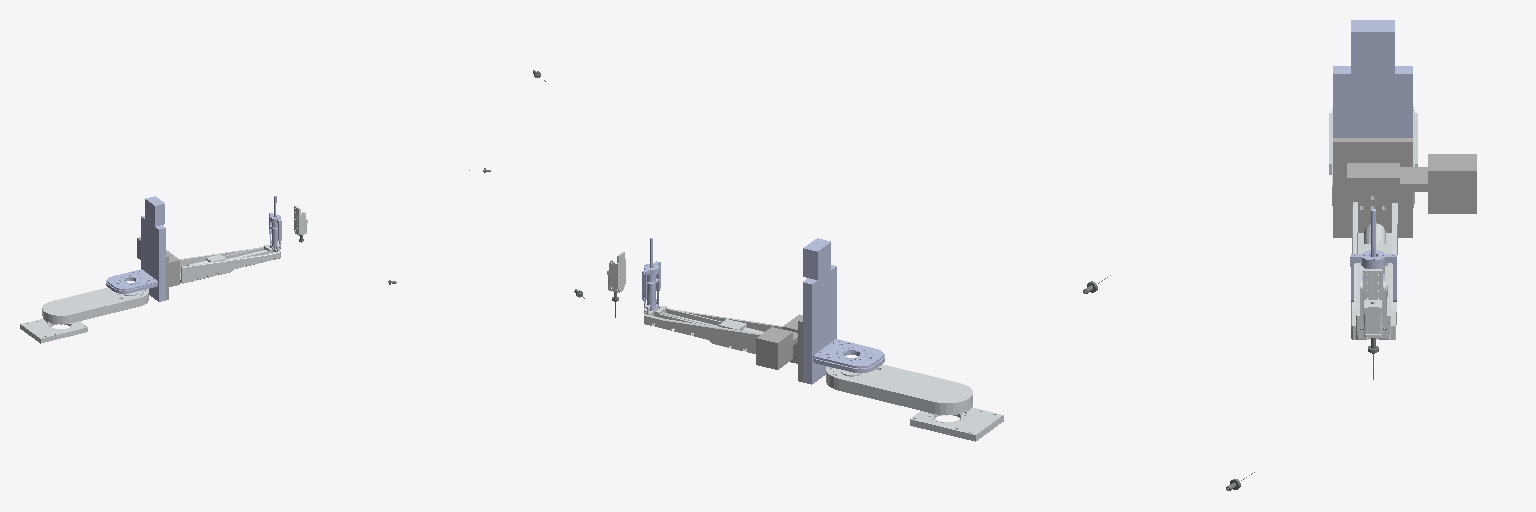
URDF robot description (eye_robotics_2):
<?xml version="1.0" encoding="utf-8"?>
<!-- This URDF was automatically created by SolidWorks to URDF Exporter! Originally created by [author] ([email redacted])
     Commit Version: 1.5.1-0-g916b5db  Build Version: 1.5.7152.31018
     For more information, please see http://wiki.ros.org/sw_urdf_exporter -->
<robot
  name="eye_robotics_2">
  <link
    name="base_link">
    <inertial>
      <origin
        xyz="-0.0238005358984902 7.38684680795521E-06 0.19192082135837"
        rpy="0 0 0" />
      <mass
        value="0.384019501922379" />
      <inertia
        ixx="0.00037648049249323"
        ixy="-1.86655934883142E-07"
        ixz="7.23682486620712E-07"
        iyy="0.000691074966331848"
        iyz="-2.24605516922303E-10"
        izz="0.00105713750177639" />
    </inertial>
    <visual>
      <origin
        xyz="0 0 0"
        rpy="0 0 0" />
      <geometry>
        <mesh
          filename="package://eye_robotics_2/meshes/base_link.STL" />
      </geometry>
      <material
        name="">
        <color
          rgba="0.894117647058823 0.913725490196078 0.929411764705882 1" />
      </material>
    </visual>
    <collision>
      <origin
        xyz="0 0 0"
        rpy="0 0 0" />
      <geometry>
        <mesh
          filename="package://eye_robotics_2/meshes/base_link.STL" />
      </geometry>
    </collision>
  </link>
  <link
    name="link_1">
    <inertial>
      <origin
        xyz="0.100797473862999 9.75750207964365E-05 -0.0119251219533321"
        rpy="0 0 0" />
      <mass
        value="1.46370175335147" />
      <inertia
        ixx="0.00106648086469304"
        ixy="-8.16970648484332E-06"
        ixz="0.00014263499229849"
        iyy="0.008676502815725"
        iyz="8.86252699776458E-08"
        izz="0.00961281310495378" />
    </inertial>
    <visual>
      <origin
        xyz="0 0 0"
        rpy="0 0 0" />
      <geometry>
        <mesh
          filename="package://eye_robotics_2/meshes/link_1.STL" />
      </geometry>
      <material
        name="">
        <color
          rgba="0.894117647058823 0.913725490196078 0.929411764705882 1" />
      </material>
    </visual>
    <collision>
      <origin
        xyz="0 0 0"
        rpy="0 0 0" />
      <geometry>
        <mesh
          filename="package://eye_robotics_2/meshes/link_1.STL" />
      </geometry>
    </collision>
  </link>
  <joint
    name="joint_1"
    type="revolute">
    <origin
      xyz="0 0 0.2428"
      rpy="0 0 0" />
    <parent
      link="base_link" />
    <child
      link="link_1" />
    <axis
      xyz="0 0 1" />
    <limit
      lower="-0.5235987"
      upper="0.5235987"
      effort="0"
      velocity="0" />
  </joint>
  <link
    name="link_2">
    <inertial>
      <origin
        xyz="0.0434941937071998 6.63065378990191E-05 0.041333956225932"
        rpy="0 0 0" />
      <mass
        value="0.701134936853284" />
      <inertia
        ixx="0.00280293008059324"
        ixy="1.90190685009045E-06"
        ixz="-4.49171603235318E-05"
        iyy="0.00267008024448423"
        iyz="1.16083816001134E-07"
        izz="0.000739304049211524" />
    </inertial>
    <visual>
      <origin
        xyz="0 0 0"
        rpy="0 0 0" />
      <geometry>
        <mesh
          filename="package://eye_robotics_2/meshes/link_2.STL" />
      </geometry>
      <material
        name="">
        <color
          rgba="0.792156862745098 0.819607843137255 0.933333333333333 1" />
      </material>
    </visual>
    <collision>
      <origin
        xyz="0 0 0"
        rpy="0 0 0" />
      <geometry>
        <mesh
          filename="package://eye_robotics_2/meshes/link_2.STL" />
      </geometry>
    </collision>
  </link>
  <joint
    name="joint_2"
    type="revolute">
    <origin
      xyz="0.2 0 0.0303"
      rpy="0 0 0" />
    <parent
      link="link_1" />
    <child
      link="link_2" />
    <axis
      xyz="0 0 1" />
    <limit
      lower="-0.5235987"
      upper="0.5235987"
      effort="0"
      velocity="0" />
  </joint>
  <link
    name="link_3">
    <inertial>
      <origin
        xyz="-0.030022019225413 0.0142338341360965 0.0102395532586211"
        rpy="0 0 0" />
      <mass
        value="0.414852305243674" />
      <inertia
        ixx="0.000295687038913697"
        ixy="1.55261476772924E-05"
        ixz="0.000116580303769062"
        iyy="0.00098470595032623"
        iyz="-3.42372209267644E-06"
        izz="0.000782496128442804" />
    </inertial>
    <visual>
      <origin
        xyz="0 0 0"
        rpy="0 0 0" />
      <geometry>
        <mesh
          filename="package://eye_robotics_2/meshes/link_3.STL" />
      </geometry>
      <material
        name="">
        <color
          rgba="0.752941176470588 0.752941176470588 0.752941176470588 1" />
      </material>
    </visual>
    <collision>
      <origin
        xyz="0 0 0"
        rpy="0 0 0" />
      <geometry>
        <mesh
          filename="package://eye_robotics_2/meshes/link_3.STL" />
      </geometry>
    </collision>
  </link>
  <joint
    name="joint_3"
    type="prismatic">
    <origin
      xyz="0.0865 0 0"
      rpy="0 0 -1.5708" />
    <parent
      link="link_2" />
    <child
      link="link_3" />
    <axis
      xyz="0 0 1" />
    <limit
      lower="0"
      upper="0.08"
      effort="0"
      velocity="0" />
  </joint>
  <link
    name="link_4">
    <inertial>
      <origin
        xyz="-0.0030133954132826 7.36834133241437E-06 1.09665768302722E-05"
        rpy="0 0 0" />
      <mass
        value="0.00646337305599087" />
      <inertia
        ixx="8.7126276838155E-08"
        ixy="9.83550461976546E-11"
        ixz="1.46385478633911E-10"
        iyy="2.19382842685933E-07"
        iyz="2.35555780033846E-10"
        izz="2.19575161381821E-07" />
    </inertial>
    <visual>
      <origin
        xyz="0 0 0"
        rpy="0 0 0" />
      <geometry>
        <mesh
          filename="package://eye_robotics_2/meshes/link_4.STL" />
      </geometry>
      <material
        name="">
        <color
          rgba="0.529411764705882 0.549019607843137 0.549019607843137 1" />
      </material>
    </visual>
    <collision>
      <origin
        xyz="0 0 0"
        rpy="0 0 0" />
      <geometry>
        <mesh
          filename="package://eye_robotics_2/meshes/link_4.STL" />
      </geometry>
    </collision>
  </link>
  <joint
    name="joint_4"
    type="revolute">
    <origin
      xyz="0 0.406 0"
      rpy="2.1612 -1.5708 2.5455" />
    <parent
      link="link_3" />
    <child
      link="link_4" />
    <axis
      xyz="0 0 1" />
    <limit
      lower="-0.5235987"
      upper="0.5235987"
      effort="0"
      velocity="0" />
  </joint>
  <link
    name="link_5">
    <inertial>
      <origin
        xyz="-1.09665768327216E-05 -0.00301339541339821 -7.36834149278609E-06"
        rpy="0 0 0" />
      <mass
        value="0.00646337305599087" />
      <inertia
        ixx="2.19575161381821E-07"
        ixy="-1.46385478633905E-10"
        ixz="2.35555780033873E-10"
        iyy="8.7126276838155E-08"
        iyz="-9.83550461974802E-11"
        izz="2.19382842685933E-07" />
    </inertial>
    <visual>
      <origin
        xyz="0 0 0"
        rpy="0 0 0" />
      <geometry>
        <mesh
          filename="package://eye_robotics_2/meshes/link_5.STL" />
      </geometry>
      <material
        name="">
        <color
          rgba="0.529411764705882 0.549019607843137 0.549019607843137 1" />
      </material>
    </visual>
    <collision>
      <origin
        xyz="0 0 0"
        rpy="0 0 0" />
      <geometry>
        <mesh
          filename="package://eye_robotics_2/meshes/link_5.STL" />
      </geometry>
    </collision>
  </link>
  <joint
    name="joint_5"
    type="revolute">
    <origin
      xyz="0 0 0"
      rpy="-0.034643 1.5708 -1.6028" />
    <parent
      link="link_4" />
    <child
      link="link_5" />
    <axis
      xyz="0 0 1" />
    <limit
      lower="-0.5236"
      upper="0.5236"
      effort="0"
      velocity="0" />
  </joint>
  <link
    name="link_6">
    <inertial>
      <origin
        xyz="-1.09665768405626E-05 -7.36834132841757E-06 -0.0400652264927998"
        rpy="0 0 0" />
      <mass
        value="0.00646337305599087" />
      <inertia
        ixx="2.19575161381821E-07"
        ixy="2.35555780033873E-10"
        ixz="1.46385478634158E-10"
        iyy="2.19382842685933E-07"
        iyz="9.83550461975134E-11"
        izz="8.71262768381551E-08" />
    </inertial>
    <visual>
      <origin
        xyz="0 0 0"
        rpy="0 0 0" />
      <geometry>
        <mesh
          filename="package://eye_robotics_2/meshes/link_6.STL" />
      </geometry>
      <material
        name="">
        <color
          rgba="0.529411764705882 0.549019607843137 0.549019607843137 1" />
      </material>
    </visual>
    <collision>
      <origin
        xyz="0 0 0"
        rpy="0 0 0" />
      <geometry>
        <mesh
          filename="package://eye_robotics_2/meshes/link_6.STL" />
      </geometry>
    </collision>
  </link>
  <joint
    name="joint_6"
    type="prismatic">
    <origin
      xyz="0 -0.043079 0"
      rpy="1.5708 0 0" />
    <parent
      link="link_5" />
    <child
      link="link_6" />
    <axis
      xyz="0 0 1" />
    <limit
      lower="-0.056"
      upper="0"
      effort="0"
      velocity="0" />
  </joint>
  <link
    name="link5_2">
    <inertial>
      <origin
        xyz="0.0016081805363357 0.0379170527371702 -1.35239873466642E-07"
        rpy="0 0 0" />
      <mass
        value="0.144603023556278" />
      <inertia
        ixx="2.89612639945818E-05"
        ixy="4.16859703859478E-08"
        ixz="-2.02205366516955E-10"
        iyy="1.23081859778174E-05"
        iyz="3.23886844332158E-10"
        izz="2.65245308288064E-05" />
    </inertial>
    <visual>
      <origin
        xyz="0 0 0"
        rpy="0 0 0" />
      <geometry>
        <mesh
          filename="package://eye_robotics_2/meshes/link5_2.STL" />
      </geometry>
      <material
        name="">
        <color
          rgba="0.898039215686275 0.917647058823529 0.929411764705882 1" />
      </material>
    </visual>
    <collision>
      <origin
        xyz="0 0 0"
        rpy="0 0 0" />
      <geometry>
        <mesh
          filename="package://eye_robotics_2/meshes/link5_2.STL" />
      </geometry>
    </collision>
  </link>
  <joint
    name="joint5_2"
    type="fixed">
    <origin
      xyz="0 0 0"
      rpy="0 0 0" />
    <parent
      link="link_5" />
    <child
      link="link5_2" />
    <axis
      xyz="0 0 0" />
  </joint>
  <link
    name="link4_1">
    <inertial>
      <origin
        xyz="-0.0171384948405487 4.64731327126655E-06 -0.206819301133627"
        rpy="0 0 0" />
      <mass
        value="0.846495635729555" />
      <inertia
        ixx="0.0039250199864696"
        ixy="-4.26414779204027E-08"
        ixz="4.6238106334488E-05"
        iyy="0.00390863229942923"
        iyz="-1.18211486439033E-09"
        izz="0.000106458939819231" />
    </inertial>
    <visual>
      <origin
        xyz="0 0 0"
        rpy="0 0 0" />
      <geometry>
        <mesh
          filename="package://eye_robotics_2/meshes/link4_1.STL" />
      </geometry>
      <material
        name="">
        <color
          rgba="0.894117647058823 0.913725490196078 0.929411764705882 1" />
      </material>
    </visual>
    <collision>
      <origin
        xyz="0 0 0"
        rpy="0 0 0" />
      <geometry>
        <mesh
          filename="package://eye_robotics_2/meshes/link4_1.STL" />
      </geometry>
    </collision>
  </link>
  <joint
    name="joint4_1"
    type="fixed">
    <origin
      xyz="0 0 0"
      rpy="0 0 0" />
    <parent
      link="link_4" />
    <child
      link="link4_1" />
    <axis
      xyz="0 0 0" />
  </joint>
  <link
    name="link4_2">
    <inertial>
      <origin
        xyz="-2.1971430385348E-06 0.0456843117251527 1.0360976410162E-06"
        rpy="0 0 0" />
      <mass
        value="0.027407637526398" />
      <inertia
        ixx="1.31322951526789E-05"
        ixy="-2.92830292251604E-09"
        ixz="-1.58655148907872E-10"
        iyy="3.93095774550966E-06"
        iyz="3.05579683156541E-10"
        izz="1.06475052848807E-05" />
    </inertial>
    <visual>
      <origin
        xyz="0 0 0"
        rpy="0 0 0" />
      <geometry>
        <mesh
          filename="package://eye_robotics_2/meshes/link4_2.STL" />
      </geometry>
      <material
        name="">
        <color
          rgba="0.792156862745098 0.819607843137255 0.933333333333333 1" />
      </material>
    </visual>
    <collision>
      <origin
        xyz="0 0 0"
        rpy="0 0 0" />
      <geometry>
        <mesh
          filename="package://eye_robotics_2/meshes/link4_2.STL" />
      </geometry>
    </collision>
  </link>
  <joint
    name="joint4_2"
    type="revolute">
    <origin
      xyz="0 0 -0.075"
      rpy="-0.17703 1.5708 -1.7452" />
    <parent
      link="link_4" />
    <child
      link="link4_2" />
    <axis
      xyz="0 0 1" />
    <limit
      lower="-0.5235987"
      upper="0.5235987"
      effort="0"
      velocity="0" />
    <mimic
      joint="joint_5"
      multiplier="1"
      offset="0" />
  </joint>
</robot>

--- What the picture shows (computed from the rendered views, not written in the file) ---
The picture shows the robot from 3 angles, left to right: view 1: azimuth 30°, elevation 25°; view 2: azimuth 150°, elevation 25°; view 3: azimuth 270°, elevation 25°; orthographic projection.
Model eye_robotics_2 with 10 links and 9 joints (5 revolute, 2 prismatic, 2 fixed), rooted at base_link, posed every joint at zero.
Visible links, largest first — view 1: link_2, link_1, link4_1, base_link, link_3; view 2: link_2, link_1, link4_1, link_3, base_link, link4_2, link5_2; view 3: link_3, link_2, link4_1, link5_2, link4_2.
Link boxes in pixels (left/top/right/bottom): link_2: left=106, top=196, right=165, bottom=301; link_1: left=42, top=288, right=148, bottom=324; link4_1: left=180, top=240, right=280, bottom=283; base_link: left=20, top=319, right=87, bottom=343; link_3: left=137, top=237, right=179, bottom=299; link_2: left=803, top=238, right=884, bottom=384; link_1: left=826, top=364, right=972, bottom=415; link4_1: left=644, top=299, right=782, bottom=353; link_3: left=756, top=314, right=802, bottom=381; base_link: left=910, top=407, right=1003, bottom=441; link4_2: left=642, top=238, right=660, bottom=310; link5_2: left=607, top=252, right=625, bottom=292; link_3: left=1333, top=138, right=1476, bottom=237; link_2: left=1333, top=20, right=1412, bottom=137; link4_1: left=1351, top=202, right=1397, bottom=339; link5_2: left=1360, top=269, right=1386, bottom=337; link4_2: left=1350, top=209, right=1396, bottom=301.
Bounding box of the posed robot: 1.14 × 0.4446 × 0.342 m (x, y, z).
Meshes: 10 distinct files referenced, 10 mesh visuals loaded (10 binary STL).